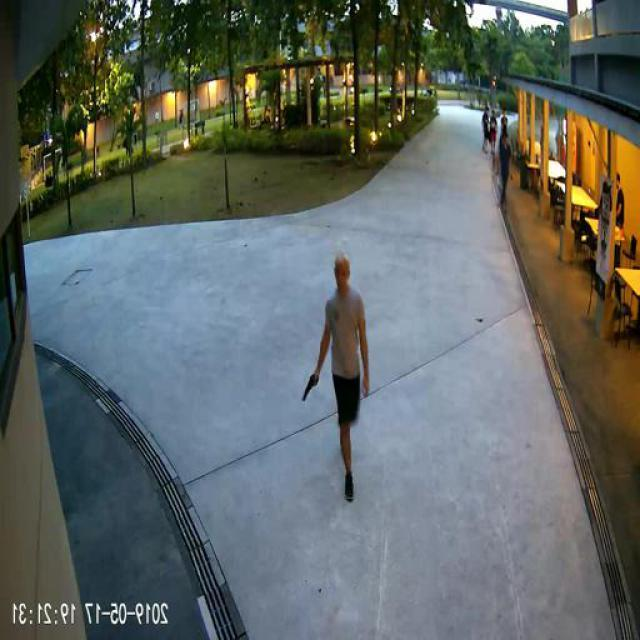Gun: (305, 368, 321, 398)
